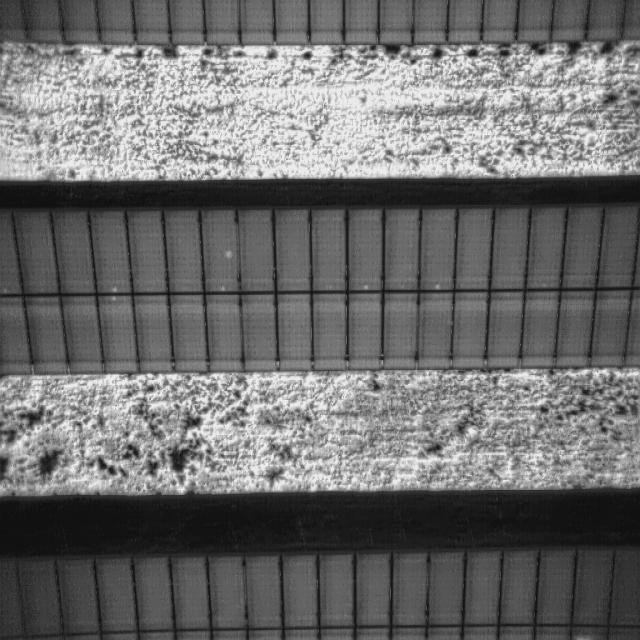hotspot: (103, 284, 121, 306), (224, 248, 233, 260)
